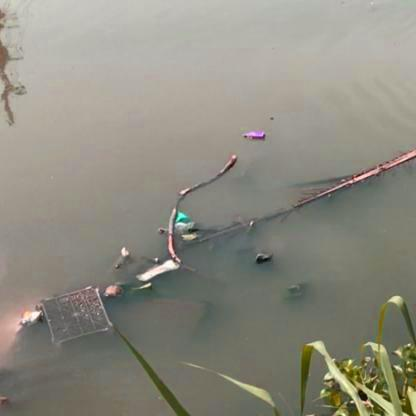Plastic: (240, 127, 270, 143)
Trash: (30, 288, 113, 346)
